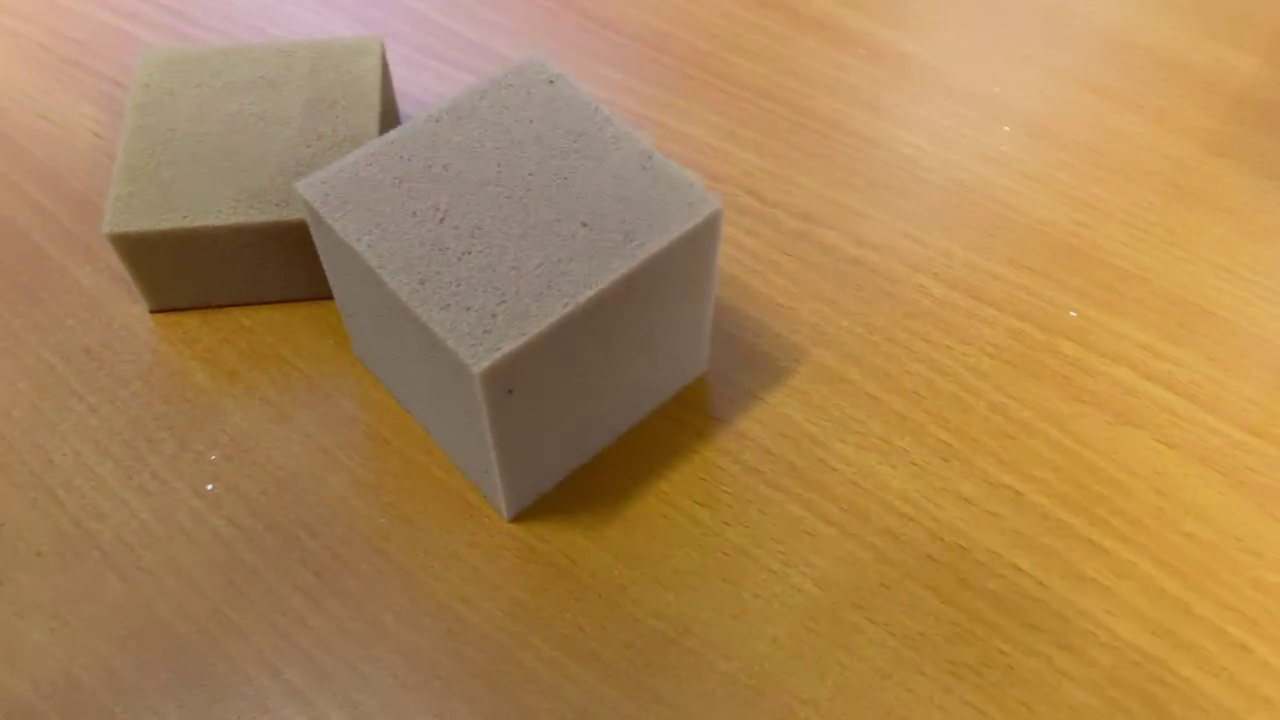Cube: (287, 41, 729, 529)
Cube_short: (101, 32, 402, 326)
